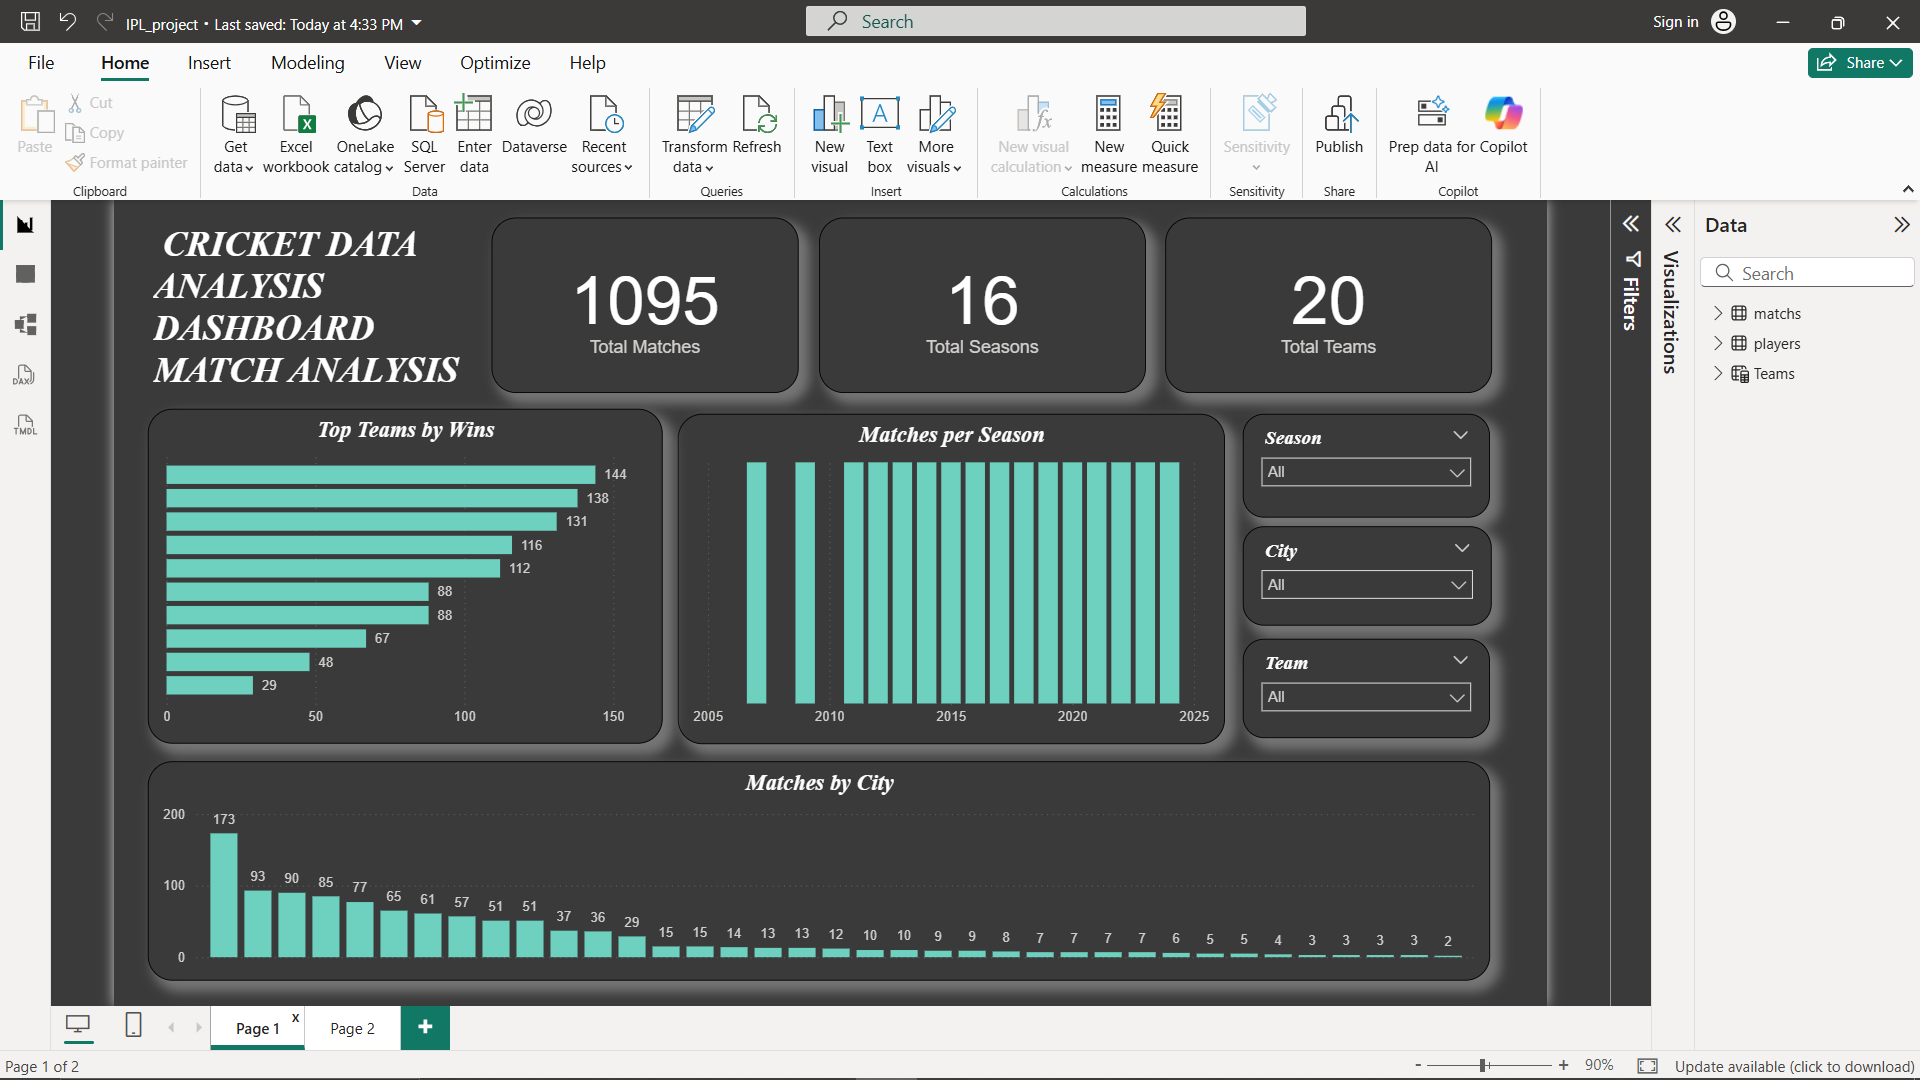

The dashboard page shown, as its layout file describes it:
{"tool":"powerbi","page":{"name":"Page 1","canvas":[1280,720],"ordinal":0},"visuals":[{"type":"textbox","box":[9.6,15.1,274.4,238.8],"z":0},{"type":"textbox","box":[30.2,15.1,352.7,156.4],"z":1000},{"type":"card","fields":{"Values":["matchs.Total Matches"]},"box":[337.6,15.1,274.4,156.4],"z":2000},{"type":"card","fields":{"Values":["matchs.Total Seasons"]},"box":[629.8,15.1,292.3,156.4],"z":3000},{"type":"card","fields":{"Values":["matchs.Total Teams"]},"box":[938.6,15.1,292.3,156.4],"z":4000},{"type":"hundredPercentStackedColumnChart","title":"Matches per Season","fields":{"Category":["matchs.Season"],"Y":["matchs.Total Matches"]},"box":[503.6,190.7,488.5,295],"z":5000},{"type":"clusteredBarChart","title":"Top Teams by Wins","fields":{"Y":["CountNonNull(matchs.match_id)"],"Category":["matchs.winner"]},"box":[30.2,186.6,459.7,299.1],"z":6000},{"type":"clusteredColumnChart","title":" Matches by City","fields":{"Category":["matchs.city"],"Y":["matchs.Total Matches"]},"box":[30.2,500.9,1199.3,196.2],"z":7000},{"type":"slicer","fields":{"Values":["matchs.Season"]},"box":[1008.6,190.9,220.9,92.5],"z":8000},{"type":"slicer","fields":{"Values":["matchs.city"]},"box":[1008.6,291.8,222.1,88.9],"z":9000},{"type":"slicer","fields":{"Values":["Teams.Team"]},"box":[1008.6,391.4,220.9,88.9],"z":10000}]}

Visuals, with their boxes on the page's 1280x720 design canvas (x1, y1, x2, y2). These are canvas units, not pixel positions in the 1920x1080 screenshot, which may show the page scaled, cropped or inside an application window:
textbox: x1=10 y1=15 x2=284 y2=254
textbox: x1=30 y1=15 x2=383 y2=172
card - matchs.Total Matches: x1=338 y1=15 x2=612 y2=172
card - matchs.Total Seasons: x1=630 y1=15 x2=922 y2=172
card - matchs.Total Teams: x1=939 y1=15 x2=1231 y2=172
"Matches per Season" hundredPercentStackedColumnChart: x1=504 y1=191 x2=992 y2=486
"Top Teams by Wins" clusteredBarChart: x1=30 y1=187 x2=490 y2=486
" Matches by City" clusteredColumnChart: x1=30 y1=501 x2=1230 y2=697
slicer - matchs.Season: x1=1009 y1=191 x2=1230 y2=283
slicer - matchs.city: x1=1009 y1=292 x2=1231 y2=381
slicer - Teams.Team: x1=1009 y1=391 x2=1230 y2=480
